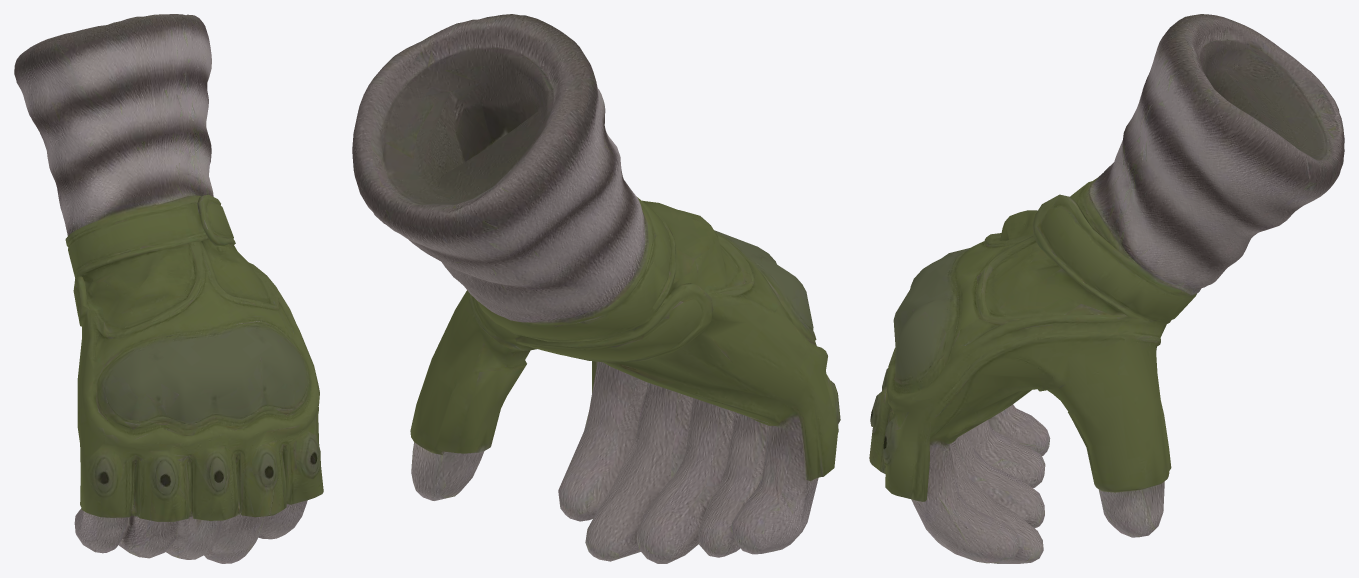
Rendered from paw.glb.
3 views of the same model, side by side, from view 1: azimuth 30°, elevation 25°; view 2: azimuth 150°, elevation 25°; view 3: azimuth 270°, elevation 25° (orthographic). The views are drawn at different scales.
Visible parts, largest first — view 1: Mesh_0; view 2: Mesh_0; view 3: Mesh_0.
Part boxes in pixels (left/top/right/bottom): Mesh_0: left=14, top=14, right=323, bottom=563; Mesh_0: left=352, top=14, right=840, bottom=563; Mesh_0: left=869, top=14, right=1344, bottom=563.
Size of the model in its own units: 1.06 by 1.9 by 1.54.
Materials: 1 (1 with a texture image).
